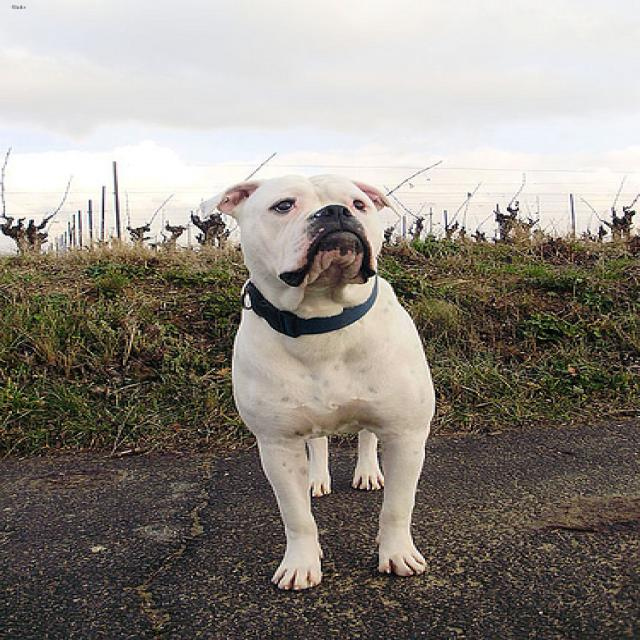dog-american_bulldog: (201, 170, 447, 594)
